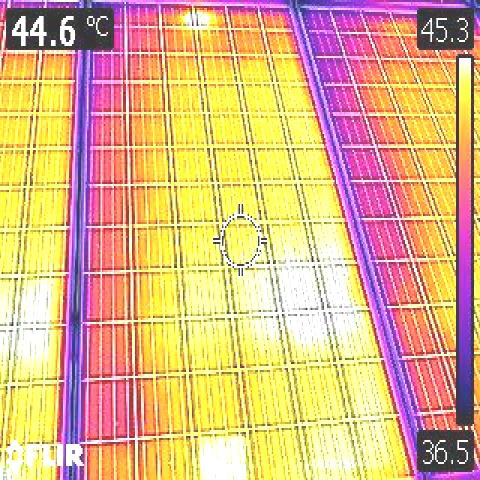fault: (278, 252, 360, 346), (200, 437, 246, 480), (180, 9, 208, 26)
